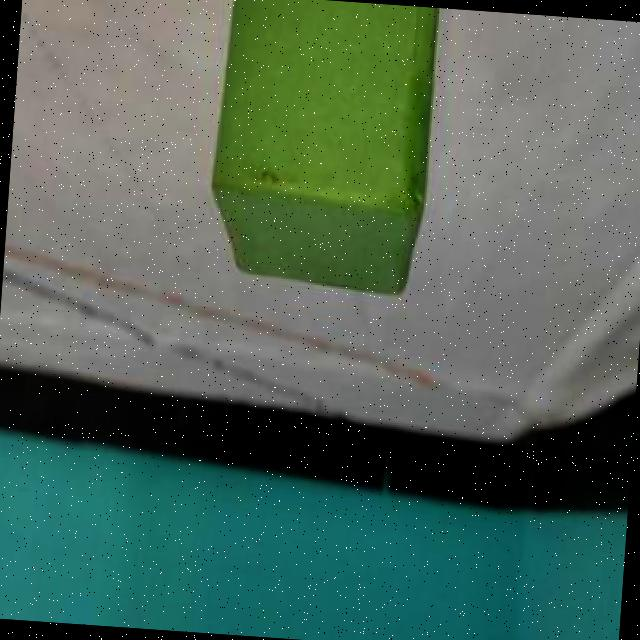greenbox: (202, 0, 443, 302)
